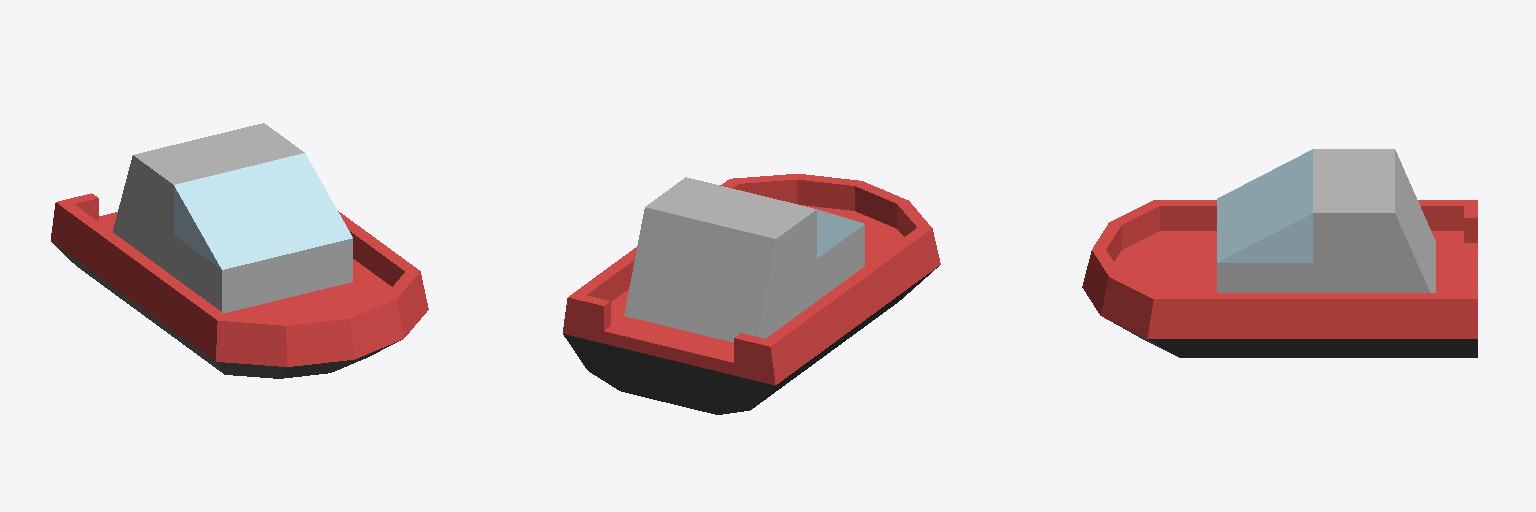
File: watercraftPack_010.obj
3 renders of one model, left to right at view 1: azimuth 30°, elevation 25°; view 2: azimuth 150°, elevation 25°; view 3: azimuth 270°, elevation 25°, orthographic.
Parts seen in each view (by area): view 1: Mesh1 Group1 Model; view 2: Mesh1 Group1 Model; view 3: Mesh1 Group1 Model.
Part boxes in pixels (x1,y1,x2,y2): Mesh1 Group1 Model: (51,123,428,378); Mesh1 Group1 Model: (563,174,940,414); Mesh1 Group1 Model: (1082,149,1477,357).
Size of the model in its own units: 1.78 by 1.2 by 2.87.